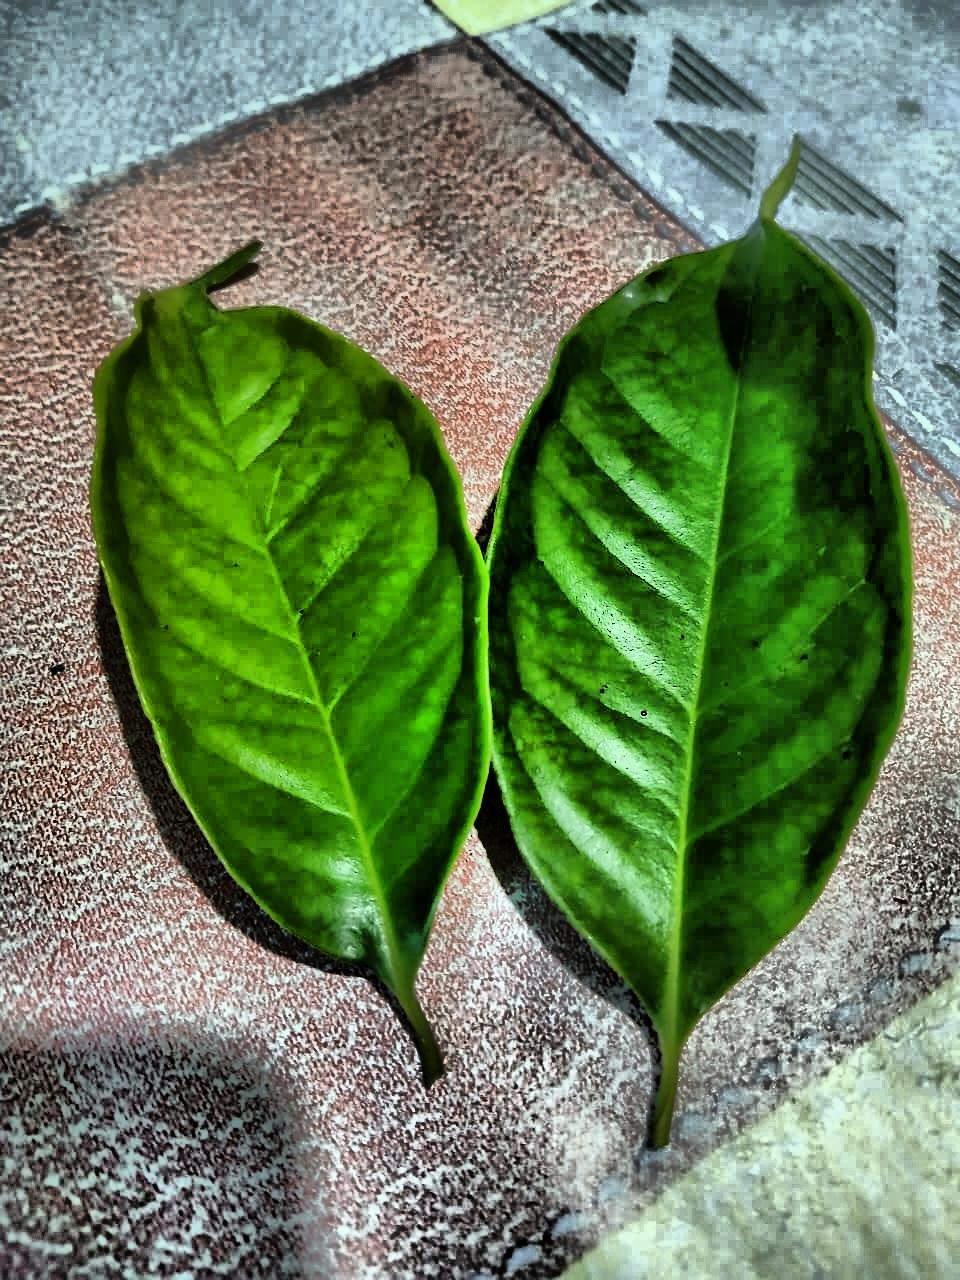daun salam: (490, 152, 911, 1138), (91, 244, 490, 1077), (342, 586, 348, 589)
